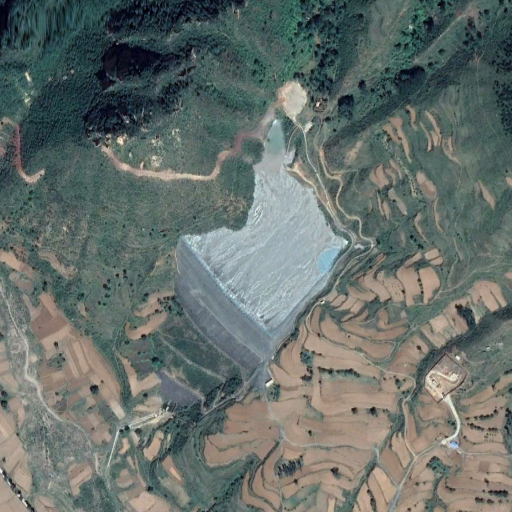tp: (159, 118, 355, 405)
